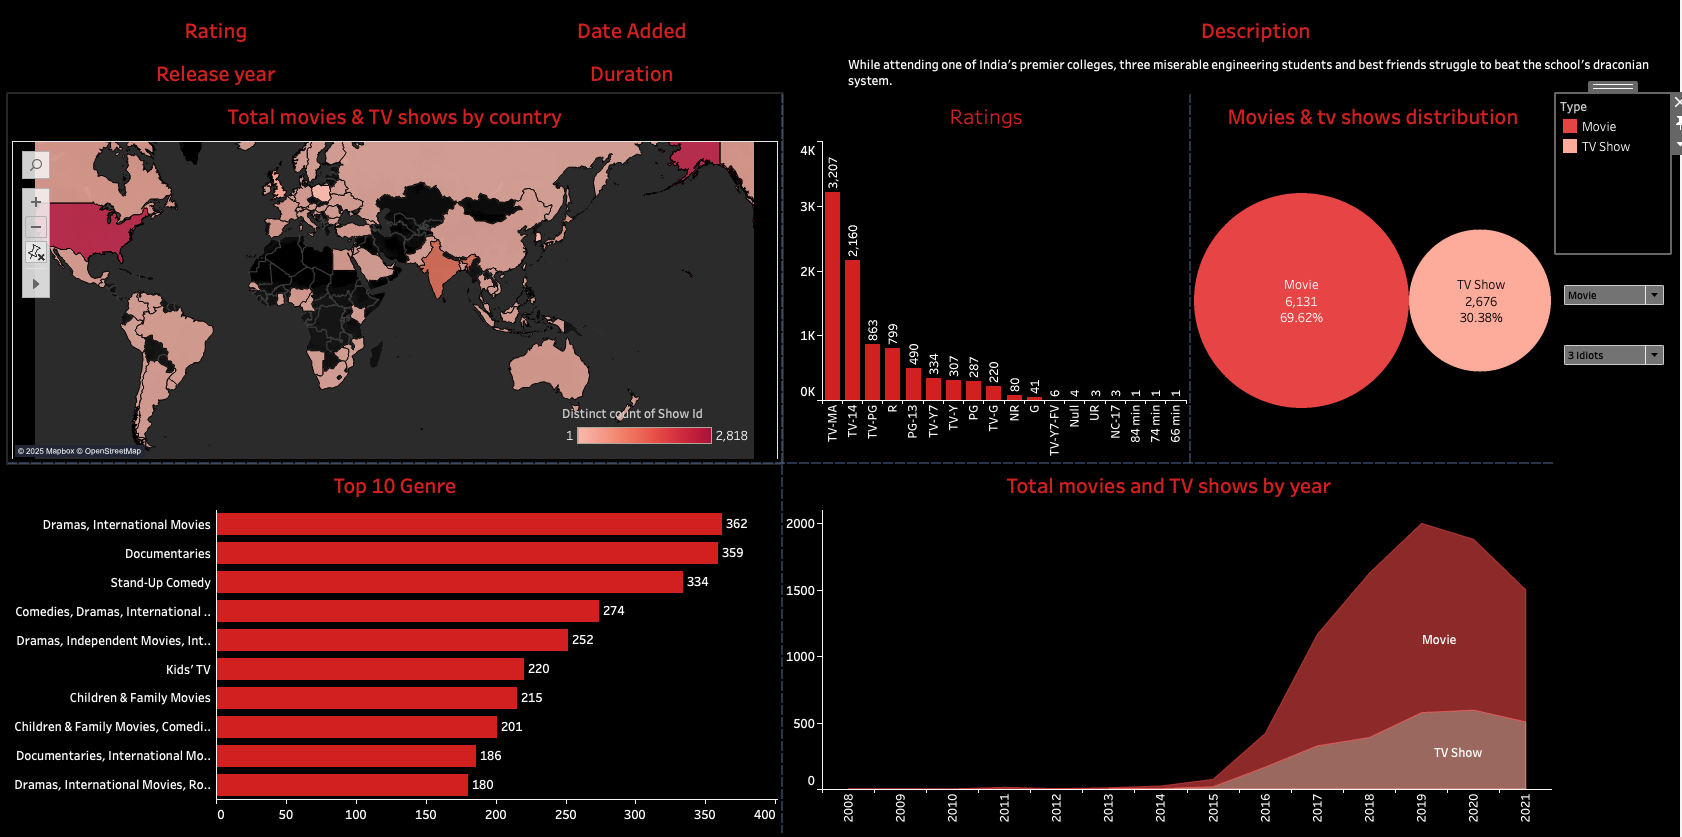

Layout of this report page (visuals, bound fields, positions):
{"tool":"tableau","page":{"name":"Netflix1","canvas":[1000,1000],"units":"permille","ordinal":0},"visuals":[{"type":"text","box":[5.7,10.4,988.7,60.8]},{"type":"filter","title":"Description","param":"[federated.0e62o2v0w36usk1deejsz0tj0y21].[none:type:nk]","box":[5.7,71.2,128,69.2]},{"type":"worksheet","title":"Release Year","mark":"Automatic","box":[133.6,71.2,107.5,138.3]},{"type":"worksheet","title":"Rating","mark":"Automatic","box":[241.1,71.2,74.3,138.3]},{"type":"worksheet","title":"Duration","mark":"Automatic","box":[315.4,71.2,72.8,138.3]},{"type":"worksheet","title":"Date Added1","mark":"Automatic","box":[388.2,71.2,89.8,138.3]},{"type":"worksheet","title":"Genre","mark":"Automatic","box":[478,71.2,222.7,138.3]},{"type":"worksheet","title":"Description","mark":"Automatic","box":[700.7,71.2,293.6,138.3]},{"type":"filter","title":"Description","param":"[federated.0e62o2v0w36usk1deejsz0tj0y21].[none:title:nk]","box":[5.7,140.4,128,69.2]},{"type":"worksheet","title":"Total movies and tv shows by country","mark":"Multipolygon","box":[5.7,209.6,448.4,425.7]},{"type":"worksheet","title":"Ratings","mark":"Automatic","rows":["show_id"],"cols":["rating"],"box":[454,209.6,283.3,425.7]},{"type":"worksheet","title":"Movies and TV shows distribution","mark":"Circle","box":[737.3,209.6,257,425.7]},{"type":"legend","title":"Total movies and tv shows by country","param":"[federated.0e62o2v0w36usk1deejsz0tj0y21].[ctd:show_id:qk]","box":[277.9,560.6,113.9,98.5]},{"type":"worksheet","title":"Top 10 genre","mark":"Automatic","rows":["listed_in"],"cols":["show_id"],"box":[5.7,635.3,505.7,354.3]},{"type":"worksheet","title":"Total movies & TV shows by Year","mark":"Area","rows":["show_id"],"cols":["date_added"],"box":[511.3,635.3,483,354.3]}]}

Visuals, with their boxes on the dashboard's canvas, which has no fixed pixel size, in thousandths of its width and height (x1, y1, x2, y2). These are canvas units, not pixel positions in the 1682x837 screenshot, which may show the page scaled, cropped or inside an application window:
text: [x1=6, y1=10, x2=994, y2=71]
"Description" filter: [x1=6, y1=71, x2=134, y2=140]
"Release Year" worksheet: [x1=134, y1=71, x2=241, y2=210]
"Rating" worksheet: [x1=241, y1=71, x2=315, y2=210]
"Duration" worksheet: [x1=315, y1=71, x2=388, y2=210]
"Date Added1" worksheet: [x1=388, y1=71, x2=478, y2=210]
"Genre" worksheet: [x1=478, y1=71, x2=701, y2=210]
"Description" worksheet: [x1=701, y1=71, x2=994, y2=210]
"Description" filter: [x1=6, y1=140, x2=134, y2=210]
"Total movies and tv shows by country" worksheet (Multipolygon marks): [x1=6, y1=210, x2=454, y2=635]
"Ratings" worksheet: [x1=454, y1=210, x2=737, y2=635]
"Movies and TV shows distribution" worksheet (Circle marks): [x1=737, y1=210, x2=994, y2=635]
"Total movies and tv shows by country" legend: [x1=278, y1=561, x2=392, y2=659]
"Top 10 genre" worksheet: [x1=6, y1=635, x2=511, y2=990]
"Total movies & TV shows by Year" worksheet (Area marks): [x1=511, y1=635, x2=994, y2=990]
